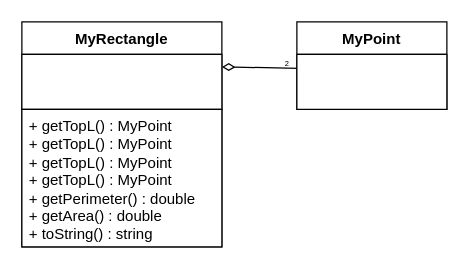
The diagram is 469 pixels wide and 273 high, and some of its shapes have lost their labels. Each missing label, with the centre of its shape:
"- topL : MyPoint - botR : MyPoint" goes at (x=121, y=81).
"- x : int - y : int" goes at (x=371, y=81).
